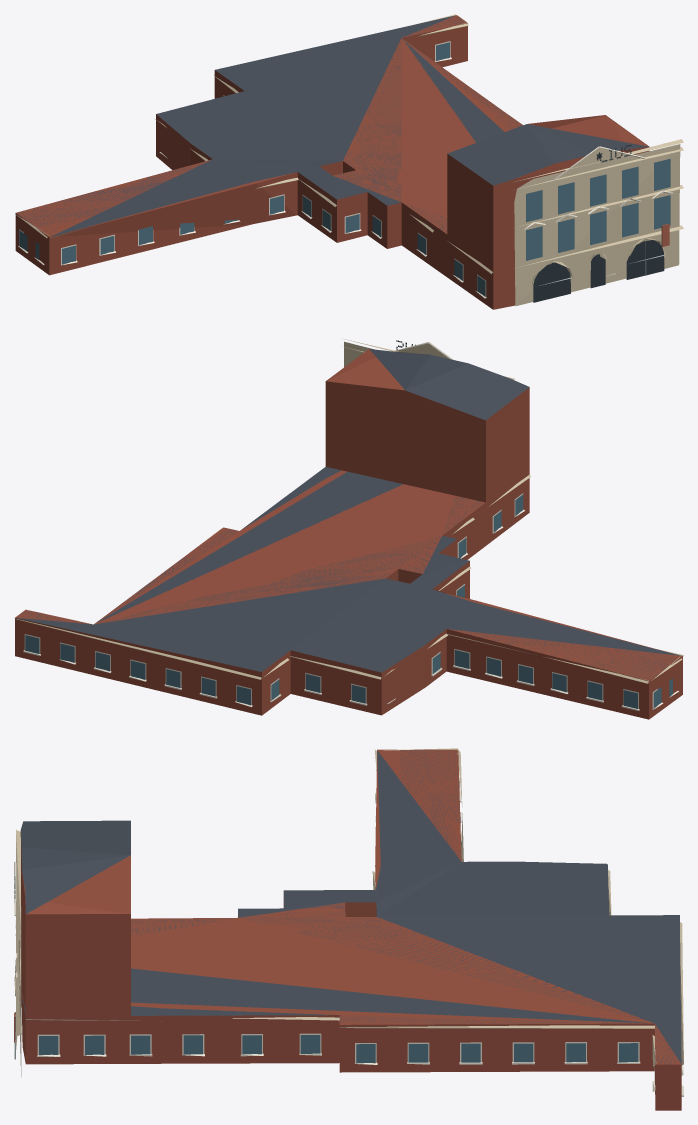
Rendered from dutch-resistance-museum.lod1.glb.
3 renders of one model, top to bottom at view 1: azimuth 30°, elevation 25°; view 2: azimuth 150°, elevation 25°; view 3: azimuth 270°, elevation 25°, orthographic. The views are drawn at different scales.
Visible parts, largest first — view 1: dutch-resistance-museum; view 2: dutch-resistance-museum; view 3: dutch-resistance-museum.
Part boxes in pixels (x1,y1,x2,y2): dutch-resistance-museum: [15, 14, 683, 309]; dutch-resistance-museum: [14, 338, 683, 719]; dutch-resistance-museum: [14, 748, 683, 1110].
Size of the model in its own units: 71.11 by 17.89 by 63.7.
